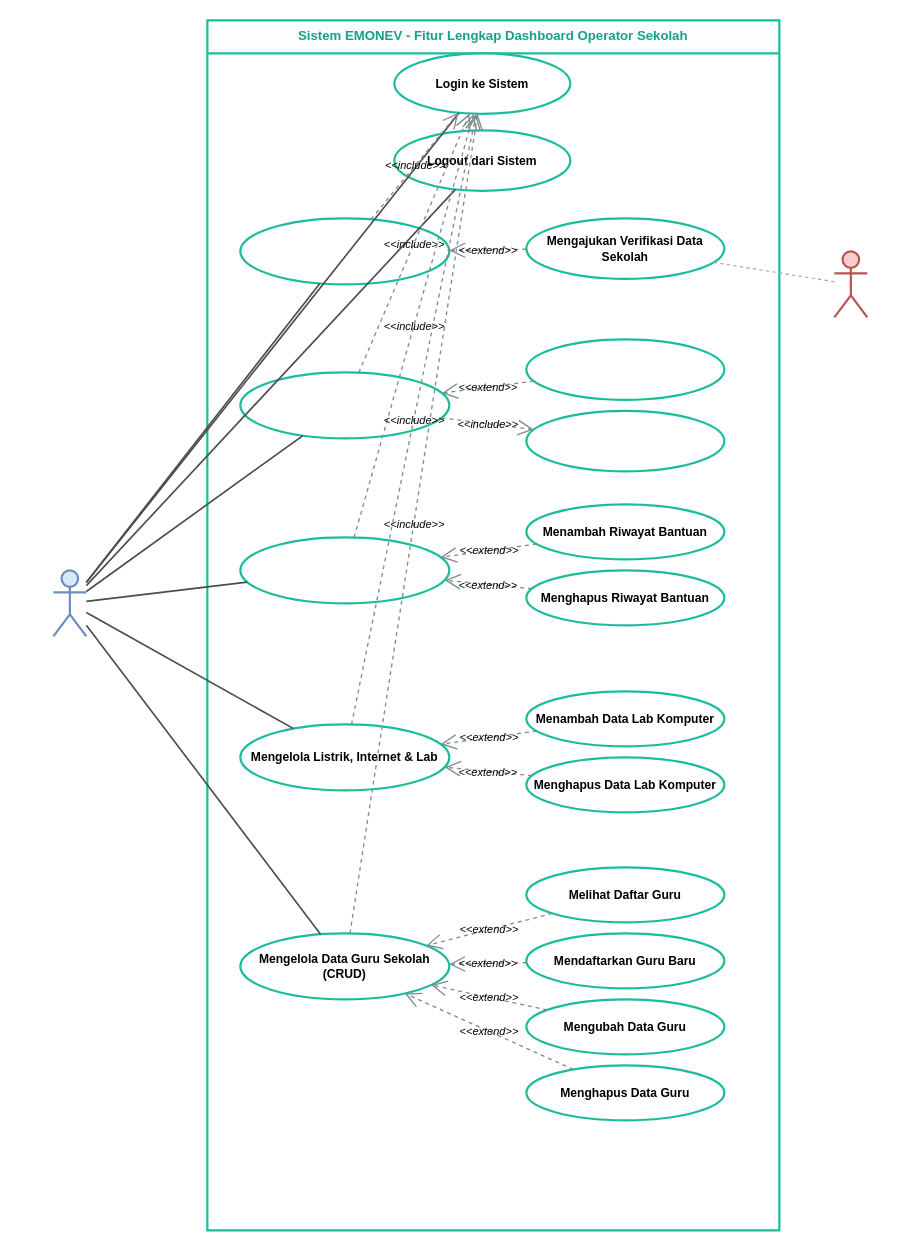
Image size: 899x1250. Some labels were removed from this diagram. Here are the shapes that lost their labels. From the top down, the centre of each, then its label:
At (344,251): "Melihat Dashboard Operator".
At (850,284): "Verifikator".
At (625,369): "Mengunggah Foto Sekolah & Kepsek".
At (344,405): "Mengelola Identitas Sekolah".
At (625,440): "Mengelola Sosekbud Sekolah".
At (344,570): "Mengelola Riwayat Bantuan TIK".
At (69,603): "Operator Sekolah".
